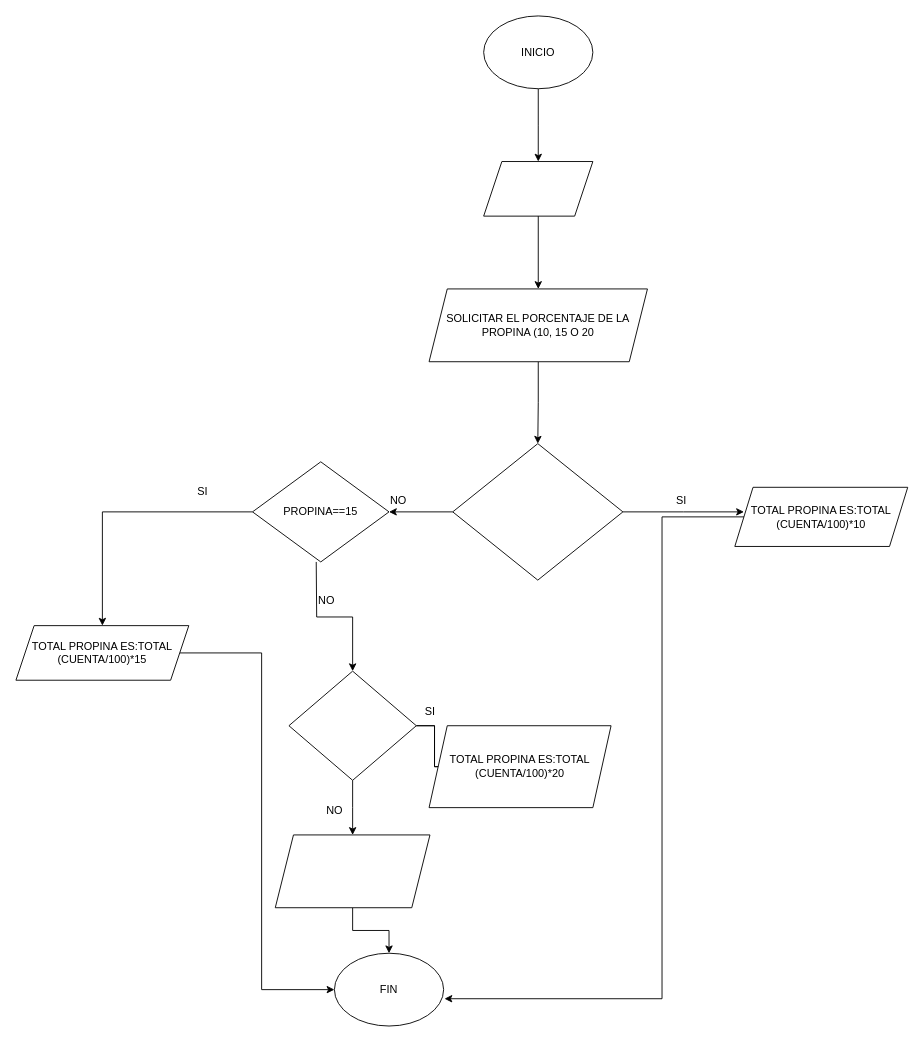
This 924x1042 diagram has some shape labels left out. Here are the shapes that lost their labels. From the top down, the centre of each, then its label:
At point (538, 188): "SOLICITAR EL TOTAL DE LA CUENTA".
At point (537, 511): "PROPINA==10".
At point (352, 725): "PROPINA==20".
At point (352, 871): "EL PORCENTAJE NO ES VALIDO".
